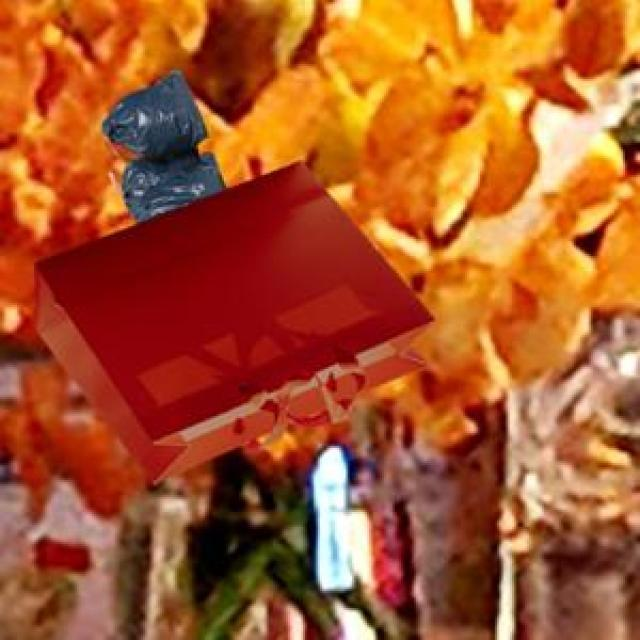miscellaneous trash: (98, 66, 222, 220)
paper: (30, 158, 431, 480)
